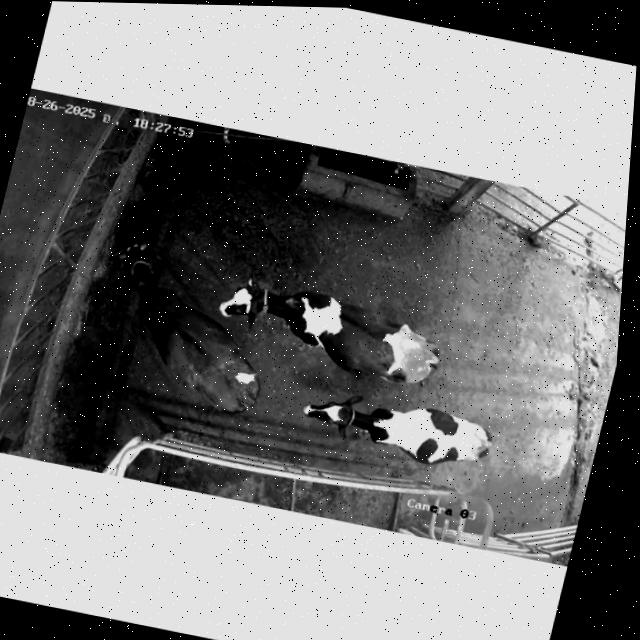stand: (86, 237, 298, 425), (195, 257, 462, 405), (281, 368, 508, 482)
